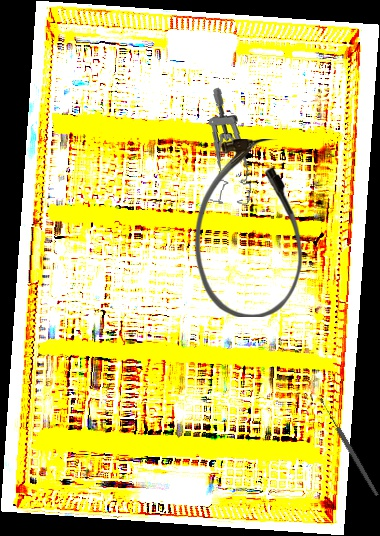Cannula: (194, 139, 304, 317)
Speculum: (200, 86, 261, 209)
Surgical Spoon: (318, 397, 380, 497)
